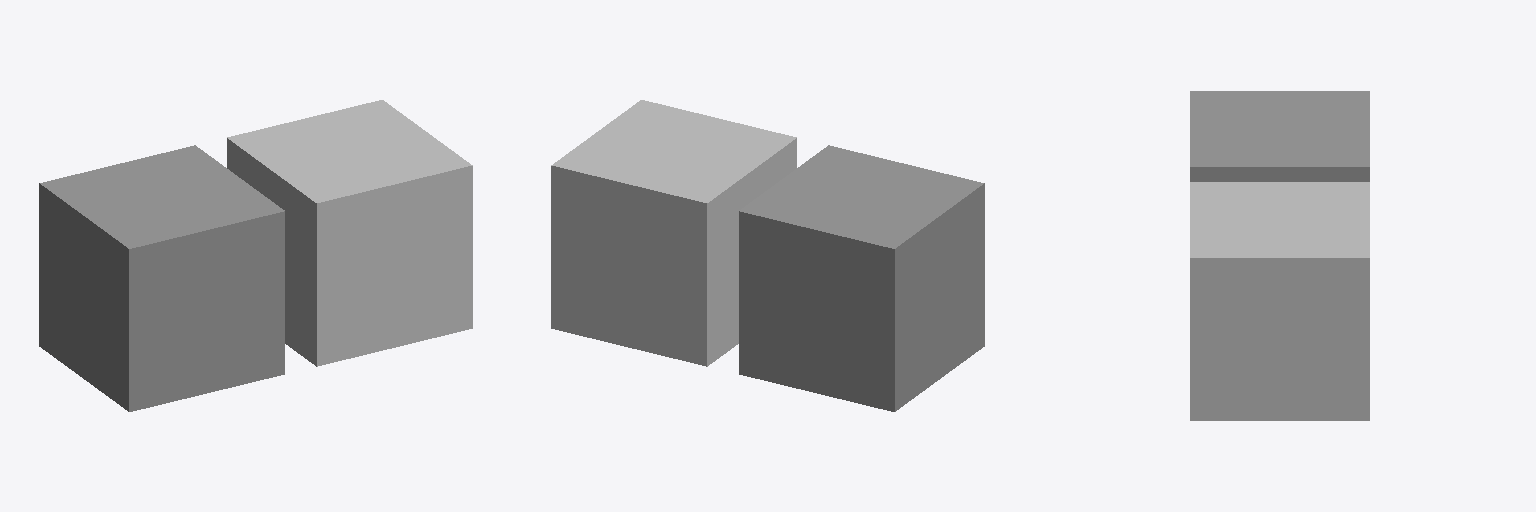
Rendered from cubes.obj.
3 views of the same model, side by side, from view 1: azimuth 30°, elevation 25°; view 2: azimuth 150°, elevation 25°; view 3: azimuth 270°, elevation 25° (orthographic).
Visible parts, largest first — view 1: Cube_Cube.001, Cube.001_Cube.002; view 2: Cube_Cube.001, Cube.001_Cube.002; view 3: Cube.001_Cube.002, Cube_Cube.001.
Part boxes in pixels (x1,y1,x2,y2): Cube_Cube.001: (39, 145, 284, 411); Cube.001_Cube.002: (227, 100, 472, 366); Cube_Cube.001: (739, 145, 984, 411); Cube.001_Cube.002: (551, 100, 796, 366); Cube.001_Cube.002: (1190, 182, 1369, 420); Cube_Cube.001: (1190, 91, 1369, 181).
Size of the model in its own units: 22 by 10 by 10.